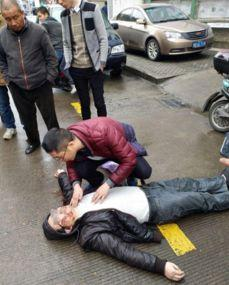bending: (42, 118, 166, 187)
down: (39, 154, 229, 271)
up: (1, 1, 56, 154), (58, 1, 111, 117)
